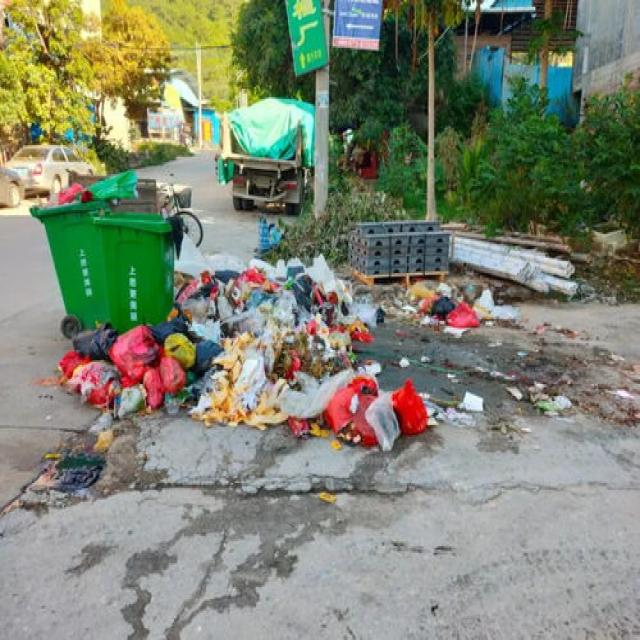garbage: (56, 249, 568, 449)
overflow: (28, 167, 110, 328), (92, 208, 183, 326)
